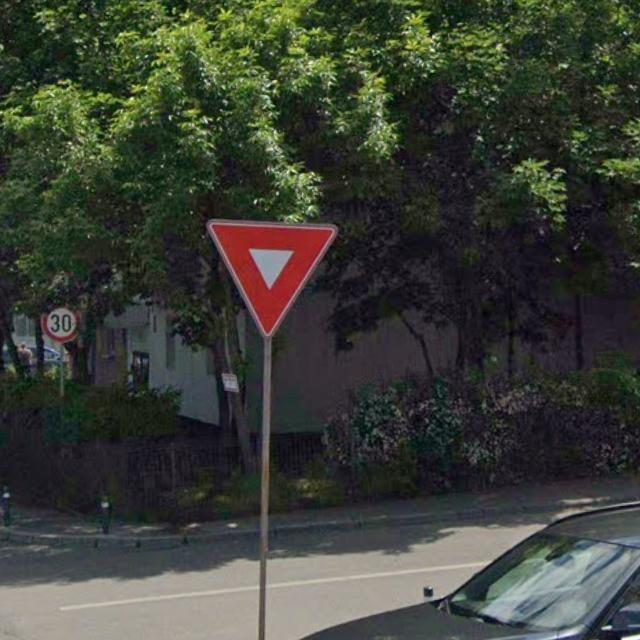forb_speed_over_30: (40, 302, 82, 343)
prio_give_way: (202, 216, 336, 338)
